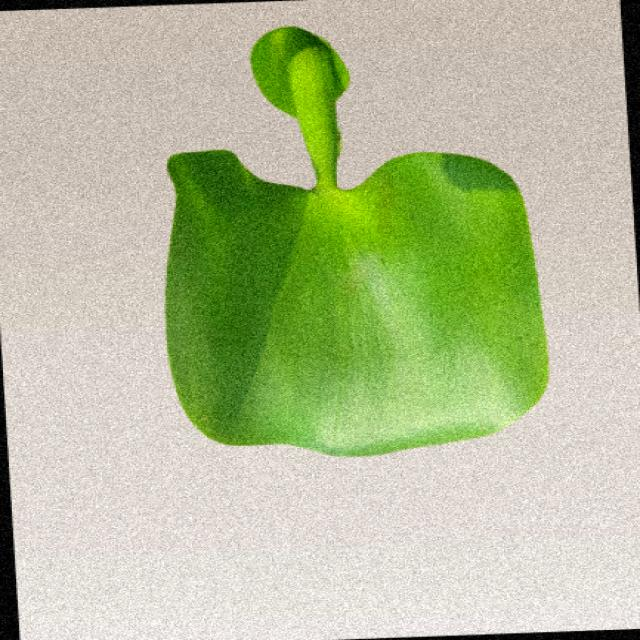daun sehat: (167, 28, 548, 456)
